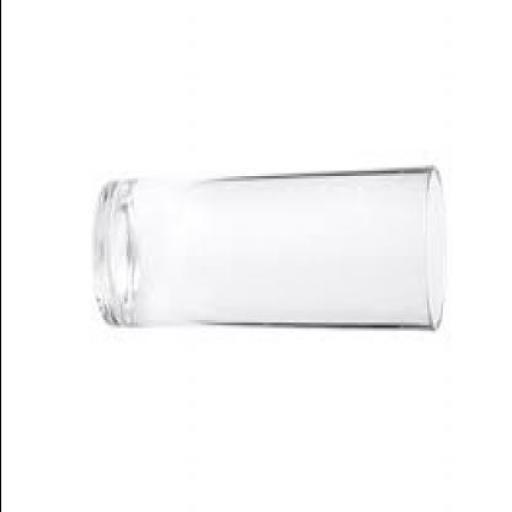glass: (94, 166, 448, 326)
